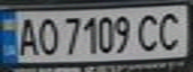0: (97, 12, 118, 55)
1: (78, 14, 100, 54)
7: (60, 13, 81, 55)
9: (112, 12, 136, 54)
A: (12, 15, 42, 57)
C: (154, 8, 190, 52), (136, 10, 163, 53)
O: (33, 15, 60, 56)
